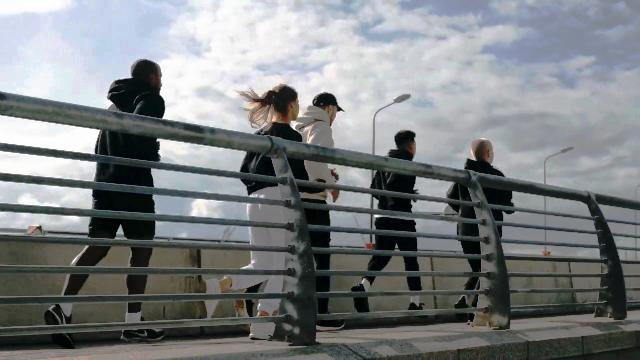berlari: (46, 57, 164, 344), (201, 84, 305, 347), (352, 127, 424, 316), (446, 140, 512, 330)
